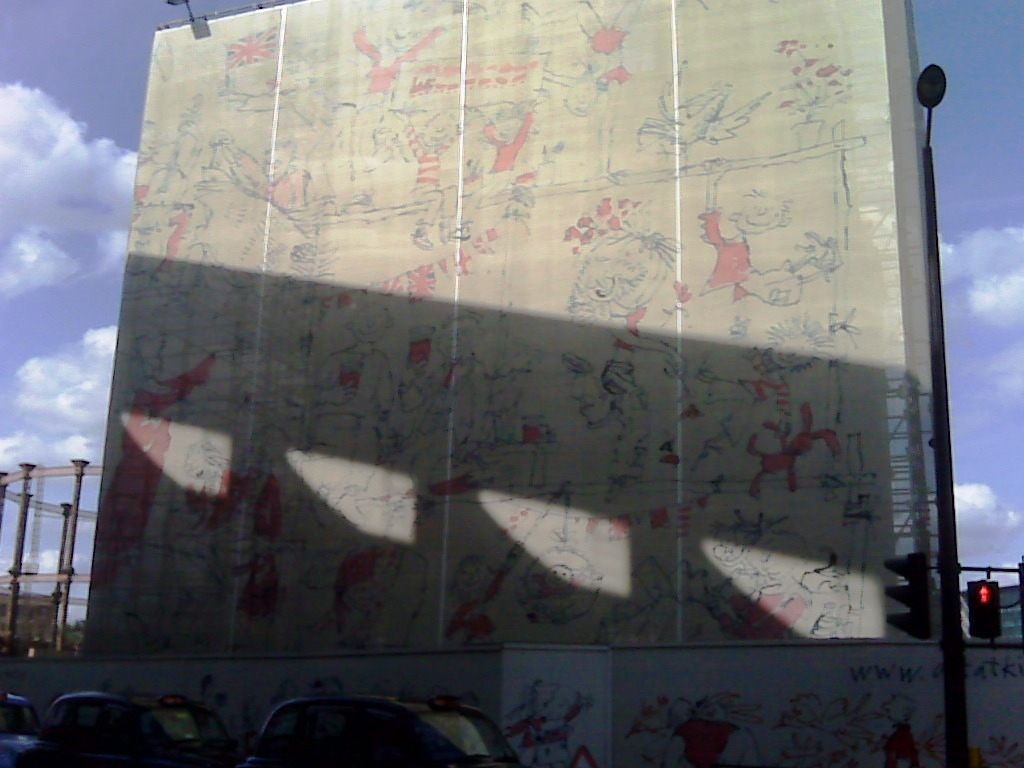Car: (245, 687, 524, 767), (12, 684, 243, 767), (0, 687, 44, 767)
